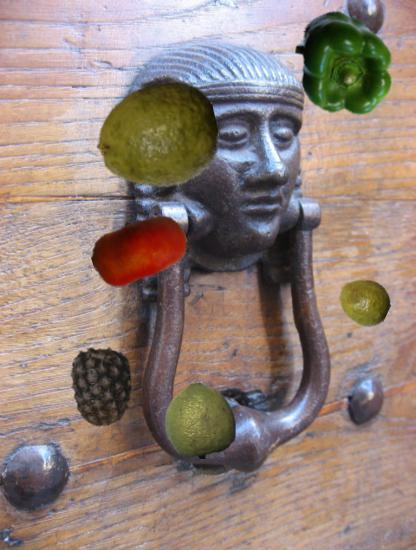Guava: (96, 76, 219, 199), (338, 276, 390, 328)
Limes: (162, 382, 240, 460)
Nectarine: (91, 201, 188, 298)
Pepper: (293, 12, 397, 116)
Pineapple: (60, 343, 145, 428)
